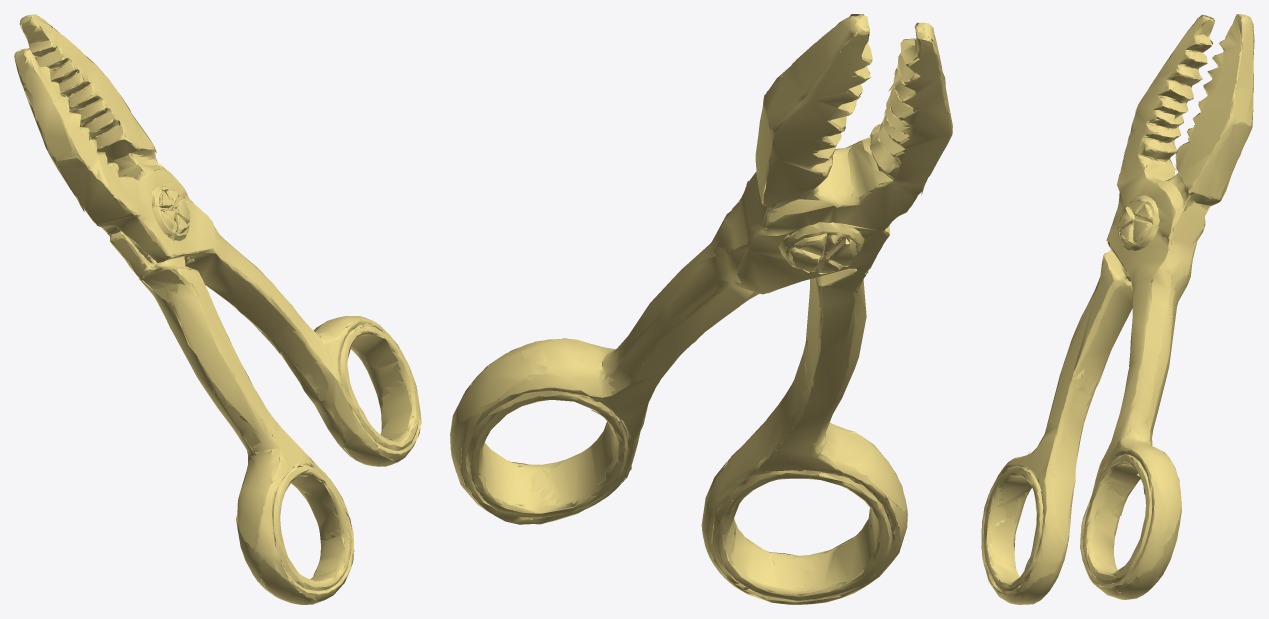
File: equip_dentis_lower_extraction_f.glb
The picture shows the model from 3 angles, left to right: view 1: azimuth 30°, elevation 25°; view 2: azimuth 150°, elevation 25°; view 3: azimuth 270°, elevation 25°; orthographic projection. The views are drawn at different scales.
Parts seen in each view (by area): view 1: world; view 2: world; view 3: world.
Boxes of the visible parts, x1,y1,x2,y2 form: world: (14,14,421,604); world: (450,14,952,604); world: (981,14,1254,604).
Size of the model in its own units: 0.1286 by 0.1801 by 0.0875.
